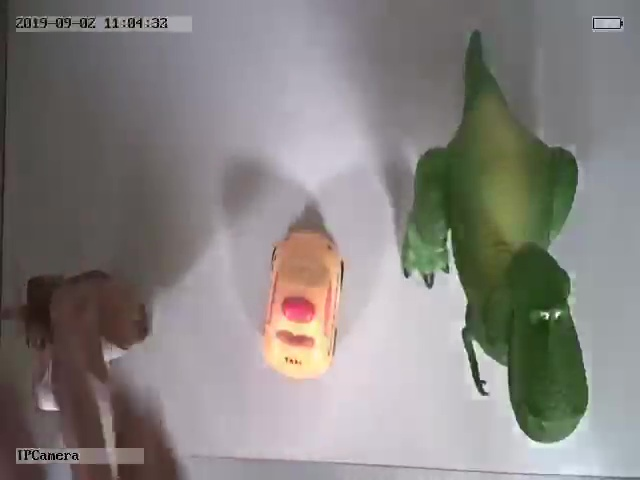car: (261, 229, 346, 378)
rex: (401, 41, 589, 445)
